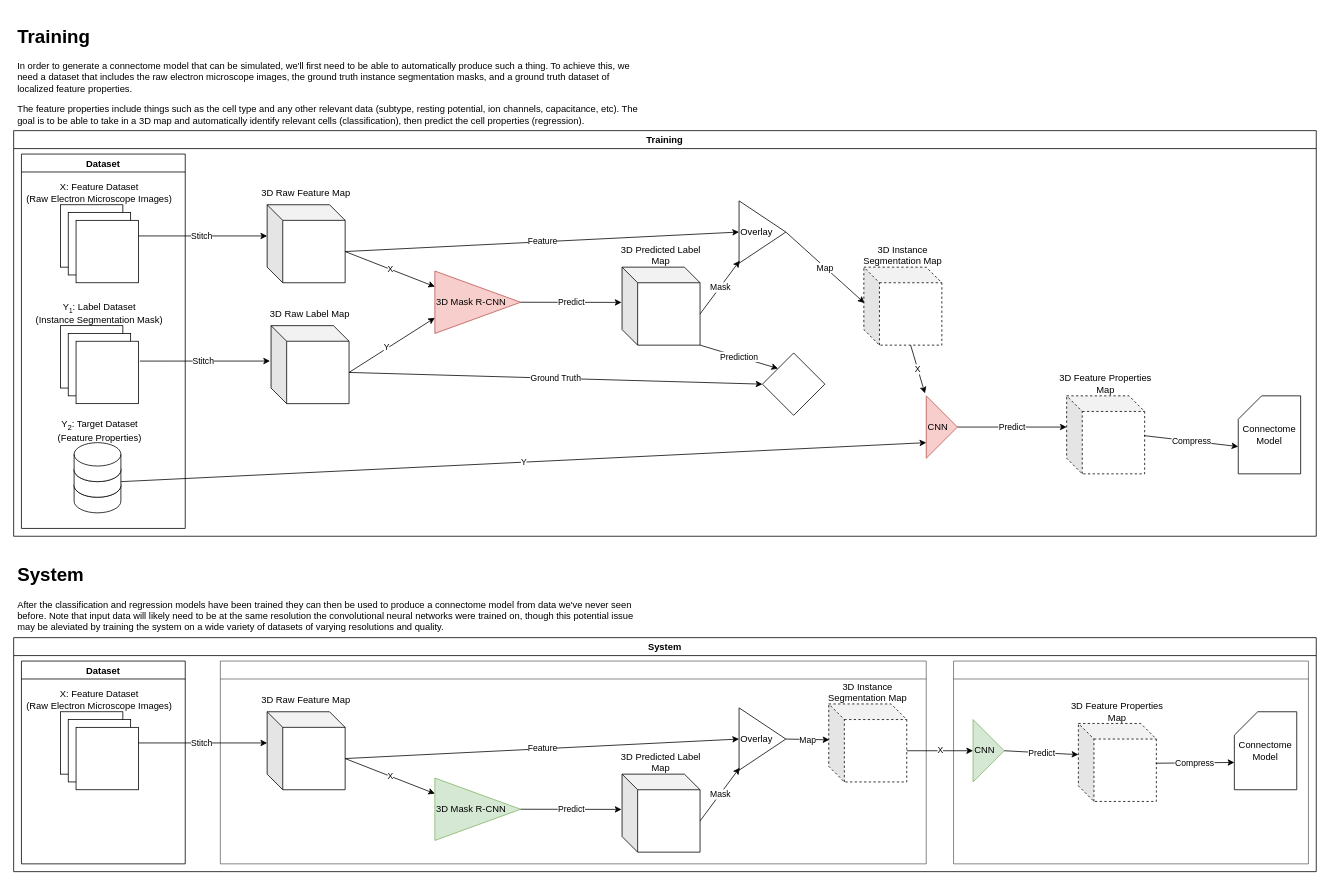
Some shapes in this 1330 by 885 pixel diagram are drawn without their labels. Here are the shapes that lost their labels. From the top down, the centre of each, then its label:
[793,383]: Evaluate (IoU)
[573,762]: Classification
[1130,762]: Regression
